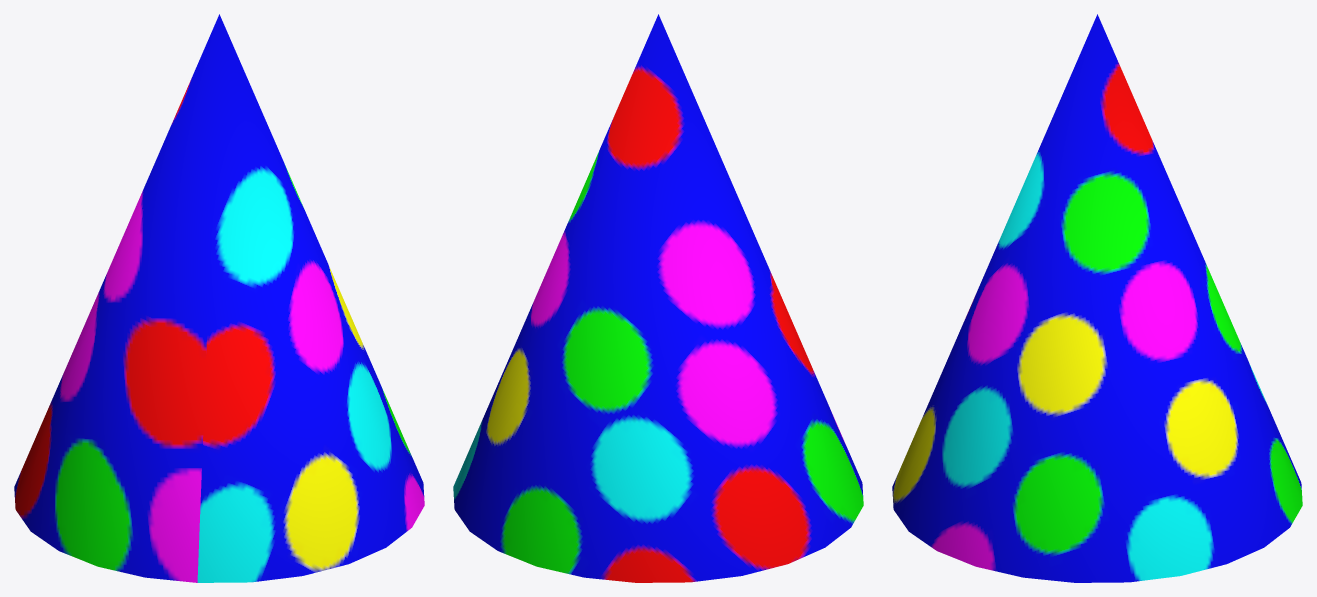
The model's file is PartyHat.obj.
3 renders of one model, left to right at view 1: azimuth 30°, elevation 25°; view 2: azimuth 150°, elevation 25°; view 3: azimuth 270°, elevation 25°, orthographic.
Visible parts, largest first — view 1: PartyHat1; view 2: PartyHat1; view 3: PartyHat1.
Boxes of the visible parts, x1,y1,x2,y2 form: PartyHat1: (14,14,424,582); PartyHat1: (453,14,863,582); PartyHat1: (892,14,1302,582).
Size of the model in its own units: 0.9389 by 1.22 by 0.9388.
1 material, 1 textured.
